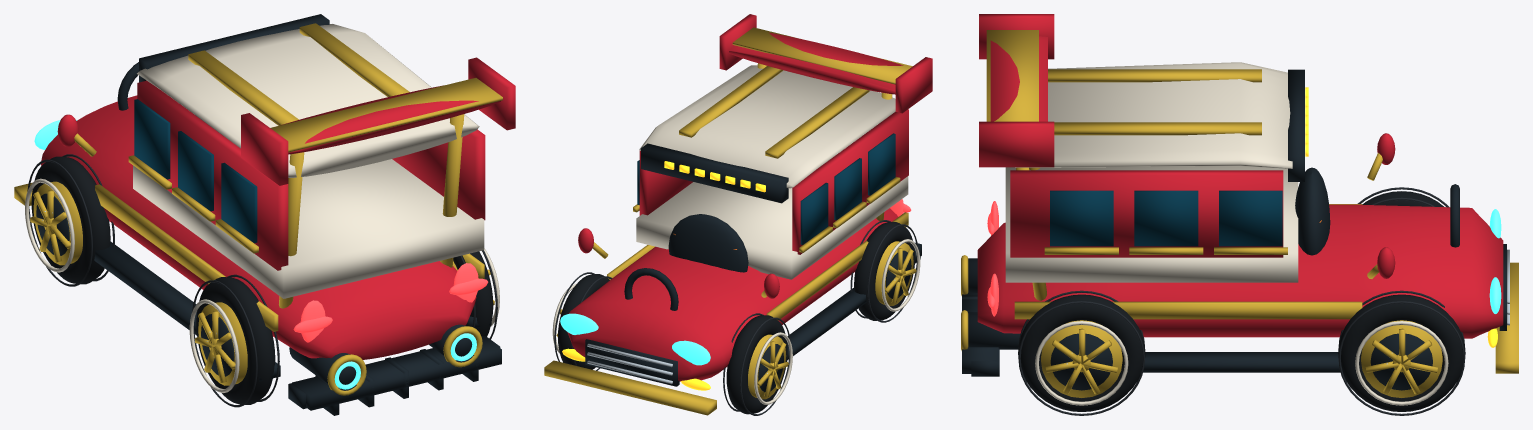
The model's file is kart_race_bus.glb.
3 renders of one model, left to right at view 1: azimuth 30°, elevation 25°; view 2: azimuth 150°, elevation 25°; view 3: azimuth 270°, elevation 25°, orthographic. The views are drawn at different scales.
Parts seen in each view (by area): view 1: body, wheel-back-left, wheel-front-left, wheel-back-right; view 2: body, wheel-front-left, wheel-back-left, wheel-front-right; view 3: body, wheel-front-right, wheel-back-right, wheel-front-left.
Part boxes in pixels (x1,y1,x2,y2): body: (14, 14, 515, 415); wheel-back-left: (189, 274, 279, 407); wheel-front-left: (25, 154, 114, 286); wheel-back-right: (452, 248, 499, 339); body: (544, 14, 932, 415); wheel-front-left: (723, 313, 792, 415); wheel-back-left: (850, 220, 920, 322); wheel-front-right: (552, 272, 612, 370); body: (961, 14, 1518, 376); wheel-front-right: (1338, 290, 1465, 415); wheel-back-right: (1018, 290, 1145, 415); wheel-front-left: (1357, 187, 1449, 207).
Bounding box in the file's own units: 2.28 × 2.45 × 4.29.
